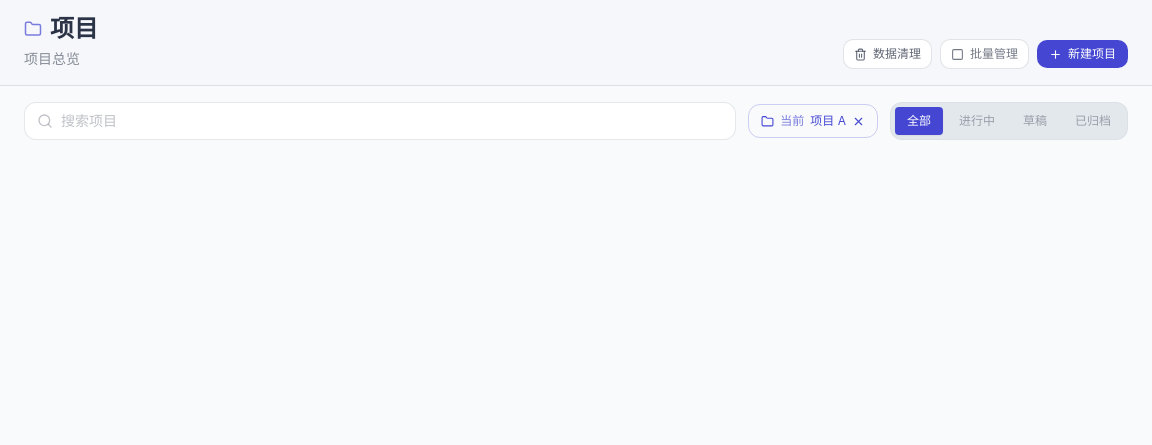
Test: Projects › keeps the last project snapshot visible when a refresh fails
Click the button "批量管理": x=984, y=54 [940, 39, 1029, 69]
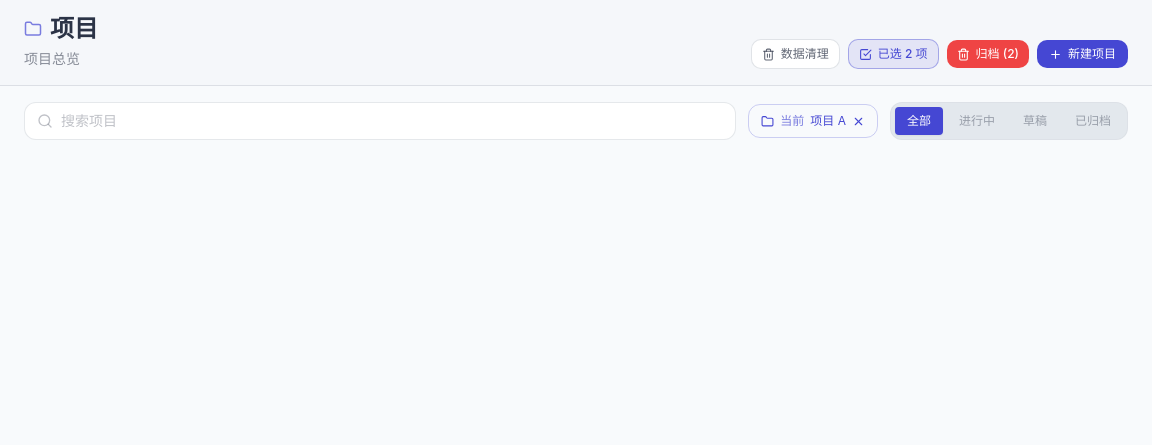
Click the button "归档 (2)": x=988, y=54 [946, 40, 1029, 68]
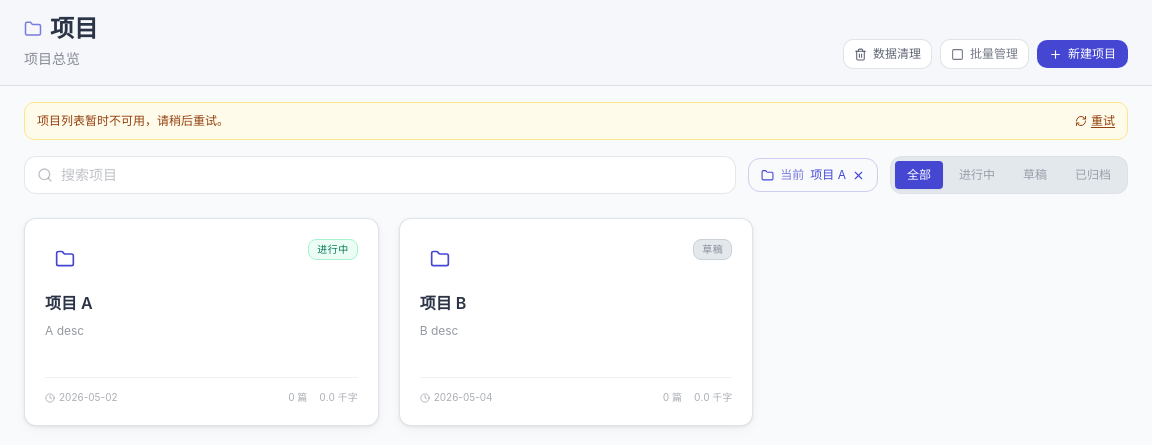
Check: the heading "项目 B" is shown, box [420, 293, 466, 313]
Check: the message shows "项目列表暂时不可用，请稍后重试。", box [37, 113, 229, 128]
